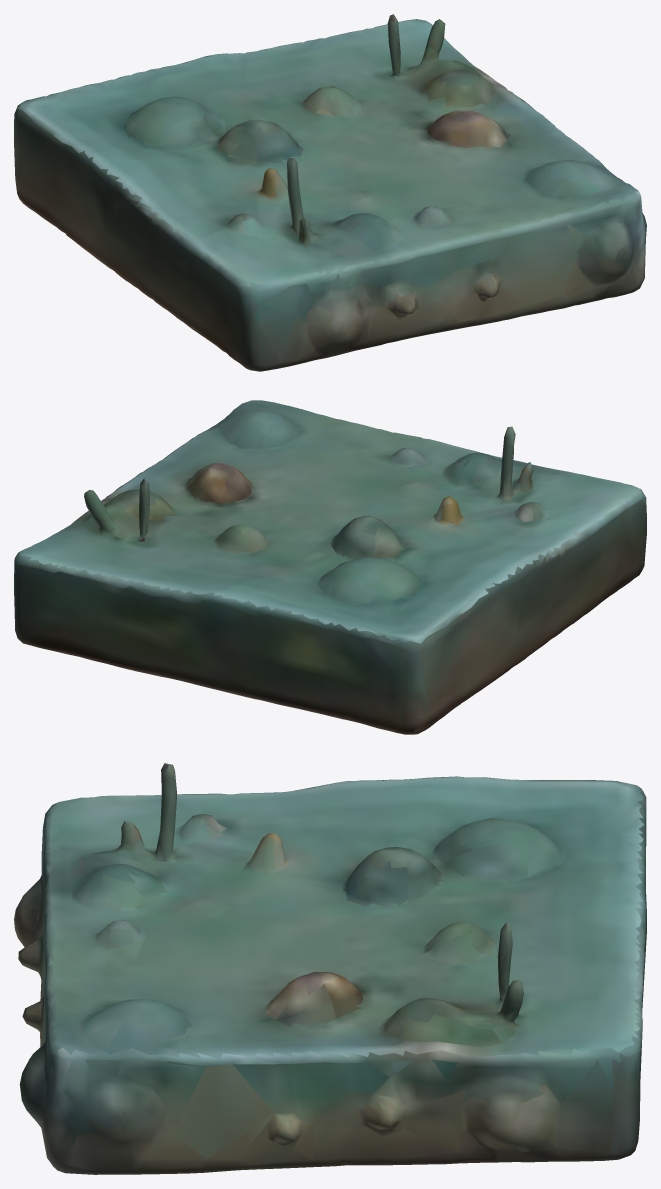
File: m17_agua_rasa_pedras.glb
3 renders of one model, top to bottom at view 1: azimuth 30°, elevation 25°; view 2: azimuth 150°, elevation 25°; view 3: azimuth 270°, elevation 25°, orthographic. The views are drawn at different scales.
Parts seen in each view (by area): view 1: m17_agua_rasa_pedras; view 2: m17_agua_rasa_pedras; view 3: m17_agua_rasa_pedras.
Boxes of the visible parts, left/top/right/bottom form: m17_agua_rasa_pedras: left=14, top=14, right=646, bottom=371; m17_agua_rasa_pedras: left=14, top=400, right=646, bottom=734; m17_agua_rasa_pedras: left=14, top=763, right=646, bottom=1174.
Size of the model in its own units: 1.02 by 0.3962 by 1.01.
1 material, 1 textured.
